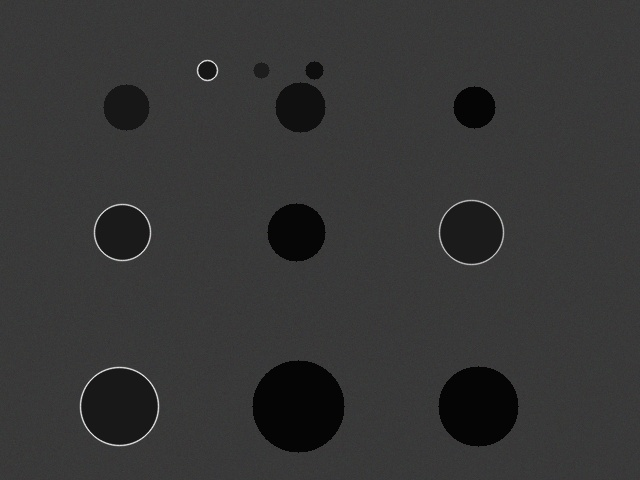hole: (252, 360, 344, 452), (438, 366, 518, 446), (80, 367, 158, 445), (439, 200, 503, 264), (267, 203, 325, 261), (94, 204, 150, 260), (275, 82, 325, 132), (103, 84, 149, 130), (453, 86, 495, 128), (197, 60, 217, 80), (305, 61, 323, 79), (253, 62, 269, 78)
